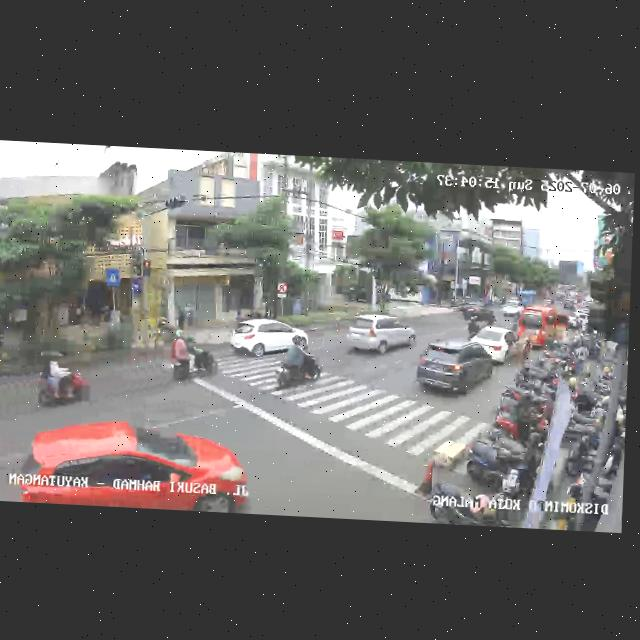car: (24, 419, 250, 513), (412, 340, 494, 400), (343, 311, 417, 361), (230, 317, 306, 360), (518, 303, 572, 350), (468, 326, 522, 367), (462, 302, 496, 325)
motorcycle: (31, 354, 93, 413), (273, 334, 325, 398), (167, 329, 219, 386), (465, 312, 481, 340)
